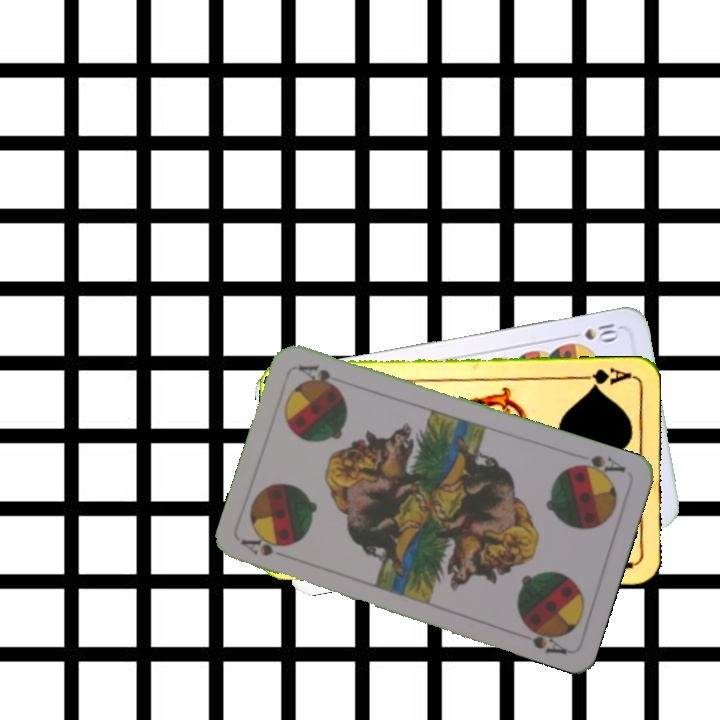GA: (575, 364, 634, 391)
S10: (580, 319, 623, 343)
SA: (568, 451, 629, 482), (238, 535, 296, 562)
